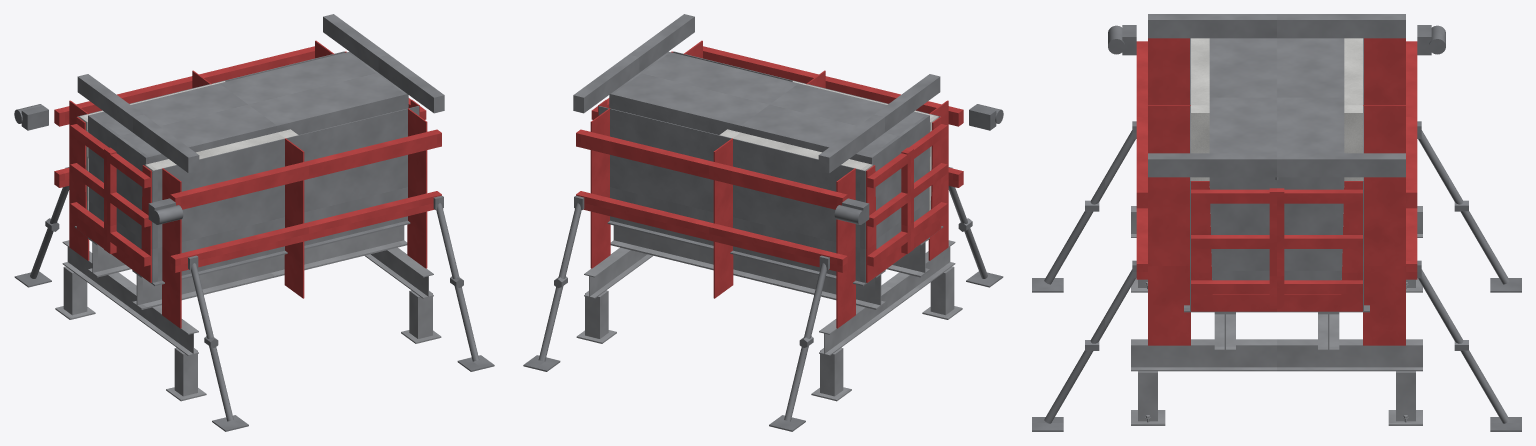
Rendered from drainage-mould.glb.
The picture shows the model from 3 angles, left to right: view 1: azimuth 30°, elevation 25°; view 2: azimuth 150°, elevation 25°; view 3: azimuth 270°, elevation 25°; orthographic projection. The views are drawn at different scales.
Parts seen in each view (by area): view 1: InnerCore, Ribs&Walers, SideShutters, BaseFrame, EndBulkheads, Props&Clamps, Vibrators, ConcreteUnit(context), SoffitBed; view 2: InnerCore, Ribs&Walers, SideShutters, BaseFrame, EndBulkheads, Props&Clamps, Vibrators, ConcreteUnit(context), SoffitBed; view 3: InnerCore, Ribs&Walers, EndBulkheads, BaseFrame, Props&Clamps, ConcreteUnit(context), Vibrators, SideShutters.
Part boxes in pixels (box(x1,y1,x2,y2)): InnerCore: box(77, 14, 444, 248); Ribs&Walers: box(54, 40, 441, 328); SideShutters: box(77, 51, 419, 282); BaseFrame: box(55, 225, 441, 401); EndBulkheads: box(70, 51, 426, 282); Props&Clamps: box(14, 167, 494, 431); Vibrators: box(14, 104, 183, 224); ConcreteUnit(context): box(79, 81, 298, 210); SoffitBed: box(74, 220, 410, 285); InnerCore: box(573, 14, 940, 248); Ribs&Walers: box(576, 40, 963, 328); SideShutters: box(598, 51, 940, 282); BaseFrame: box(576, 225, 962, 401); EndBulkheads: box(591, 51, 947, 282); Props&Clamps: box(523, 167, 1003, 431); Vibrators: box(834, 104, 1003, 224); ConcreteUnit(context): box(719, 81, 938, 210); SoffitBed: box(607, 220, 943, 285); InnerCore: box(1148, 14, 1405, 280); Ribs&Walers: box(1136, 38, 1417, 345); EndBulkheads: box(1191, 181, 1362, 311); BaseFrame: box(1131, 206, 1422, 425); Props&Clamps: box(1032, 121, 1521, 431); ConcreteUnit(context): box(1191, 38, 1362, 226); Vibrators: box(1108, 25, 1445, 55); SideShutters: box(1190, 38, 1363, 310).
Size of the model in its own units: 2.83 by 2.1 by 3.42.
Materials: 5 (5 with a texture image).
